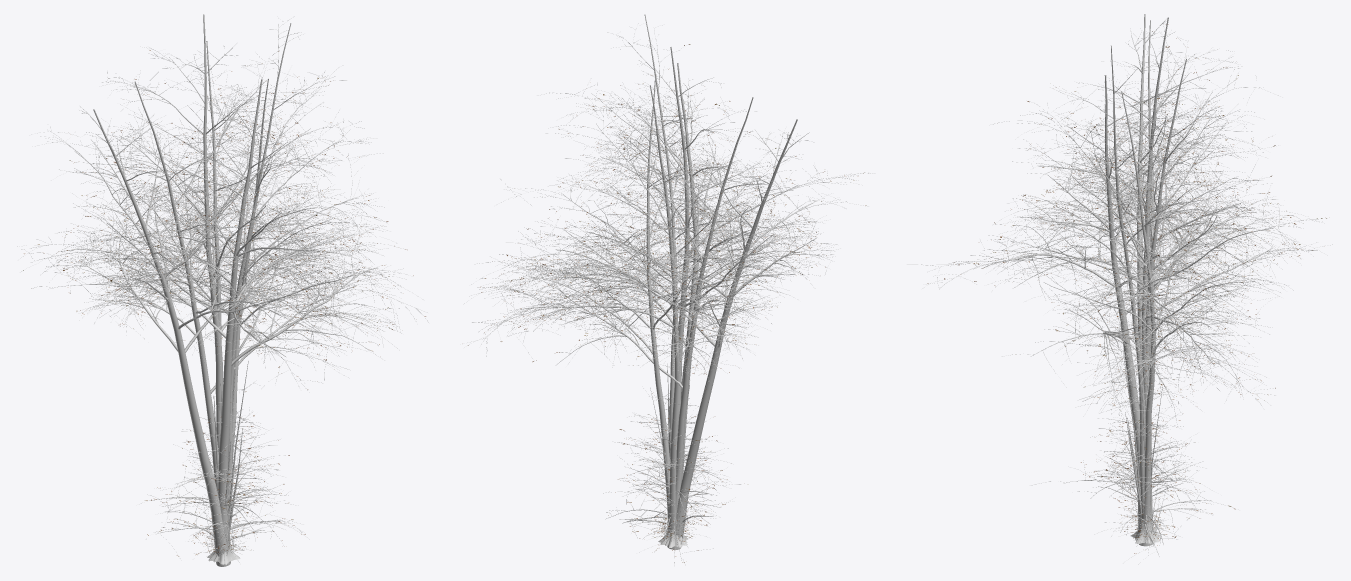
Rendered from trees.glb.
3 renders of one model, left to right at view 1: azimuth 30°, elevation 25°; view 2: azimuth 150°, elevation 25°; view 3: azimuth 270°, elevation 25°, orthographic. The views are drawn at different scales.
Parts seen in each view (by area): view 1: big_4_wood, big_5_wood, big_0_wood, big_2_wood, big_6_wood, big_1_wood, big_3_wood, pole_2_wood, pole_1_wood, pole_3_wood, pole_0_wood, pole_7_wood (+2 smaller); view 2: big_0_wood, big_5_wood, big_6_wood, big_2_wood, big_4_wood, big_3_wood, big_1_wood, pole_1_wood, pole_6_wood; view 3: big_4_wood, big_6_wood, big_0_wood, big_5_wood, big_2_wood, big_1_wood, big_3_wood, pole_2_wood, pole_1_wood, pole_3_wood, pole_6_wood, pole_7_wood (+1 smaller).
Part boxes in pixels (x1,y1,x2,y2): big_4_wood: (63,79,422,566); big_5_wood: (31,105,406,566); big_0_wood: (61,14,383,563); big_2_wood: (33,64,428,493); big_6_wood: (79,79,400,537); big_1_wood: (55,16,383,511); big_3_wood: (17,41,385,562); pole_2_wood: (160,361,290,541); pole_1_wood: (158,371,309,539); pole_3_wood: (161,441,272,540); pole_0_wood: (156,396,277,506); pole_7_wood: (194,428,281,533); big_0_wood: (463,47,875,546); big_5_wood: (480,119,867,549); big_6_wood: (486,74,816,522); big_2_wood: (469,97,819,515); big_4_wood: (471,63,840,549); big_3_wood: (506,85,818,540); big_1_wood: (516,14,788,459); pole_1_wood: (603,363,713,553); pole_6_wood: (622,370,741,565); big_4_wood: (907,75,1273,546); big_6_wood: (999,91,1298,525); big_0_wood: (993,17,1275,543); big_5_wood: (973,14,1278,543); big_2_wood: (961,20,1332,451); big_1_wood: (1004,45,1244,518); big_3_wood: (993,59,1327,543); pole_2_wood: (1031,350,1218,502); pole_1_wood: (1089,365,1235,564); pole_3_wood: (1092,418,1188,546); pole_6_wood: (1087,367,1212,538); pole_7_wood: (1097,412,1173,517).
Bounding box in the file's own units: 20.89 × 29.88 × 22.27.
